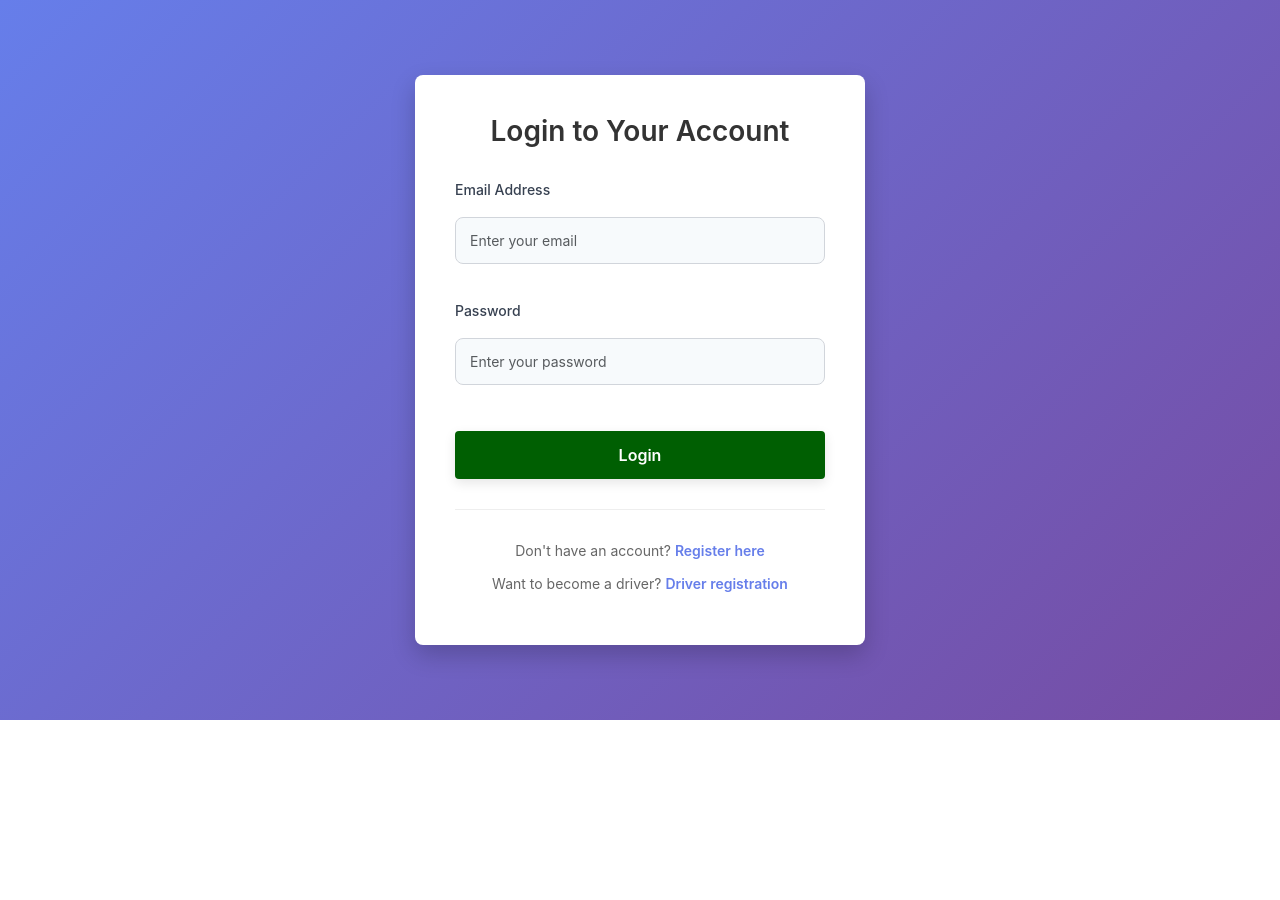
Scenario: Login Component › shows validation errors for empty fields on submit
The image size is (1280, 900).
Step 1. Click the button "Login" → (640, 455), box [455,431,825,479]
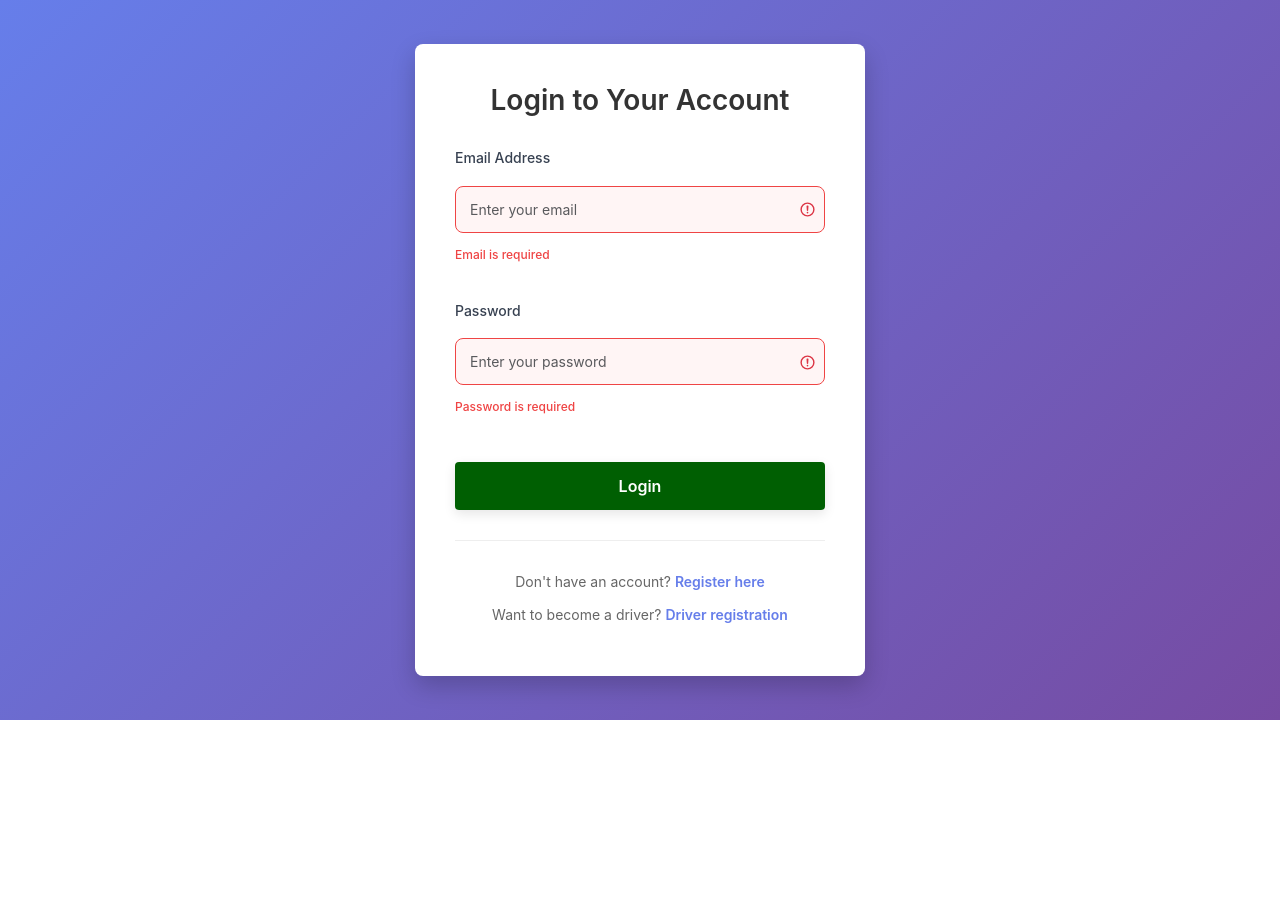
Check: the text "Email is required" is shown, box [455,247,550,262]
Check: the text "Password is required" is shown, box [455,399,575,414]
